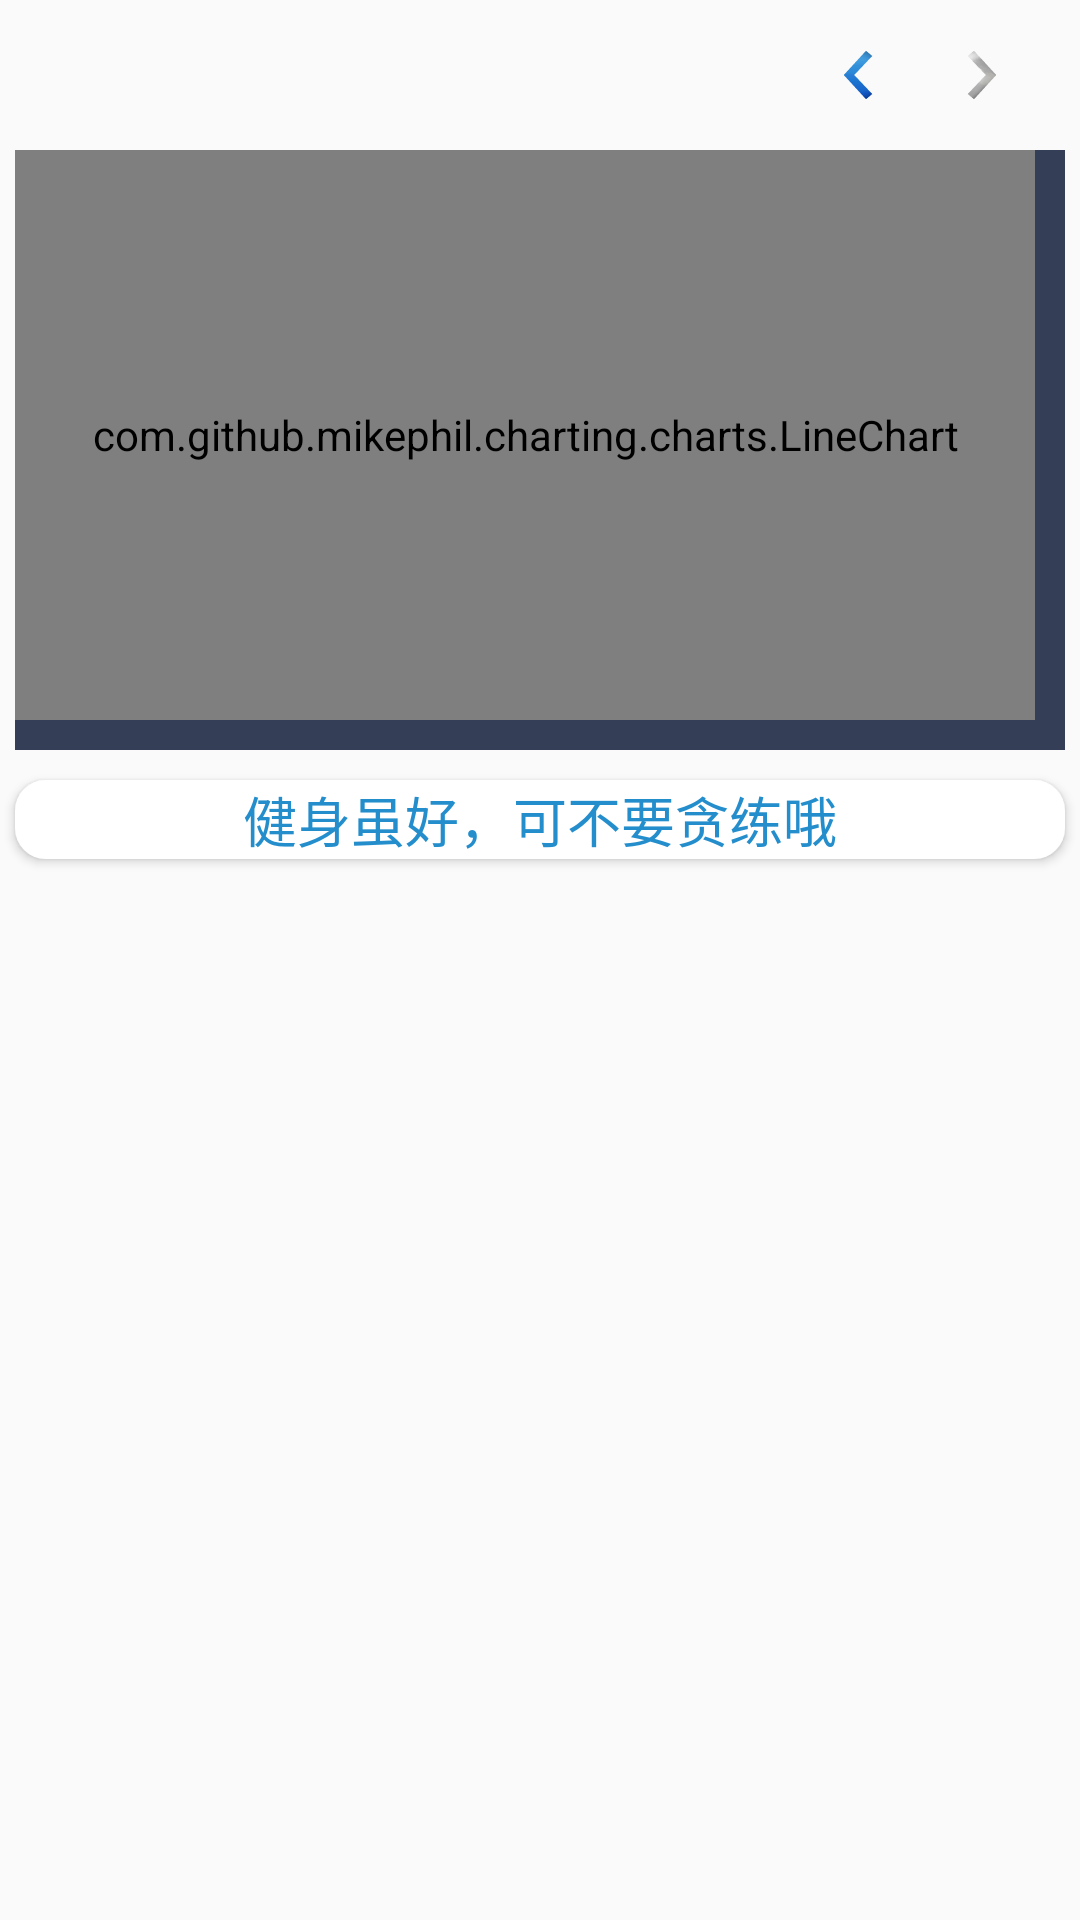

Screen size 1080x1920. Icon name, then its box in pixels as (x1, y1, x2, y2):
next fan: (968, 51, 996, 99)
prev: (844, 51, 872, 99)
